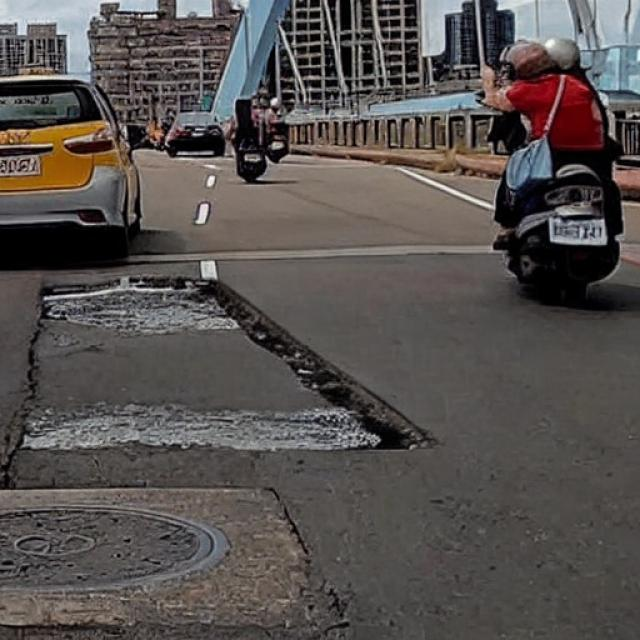puddle: (32, 277, 433, 452)
